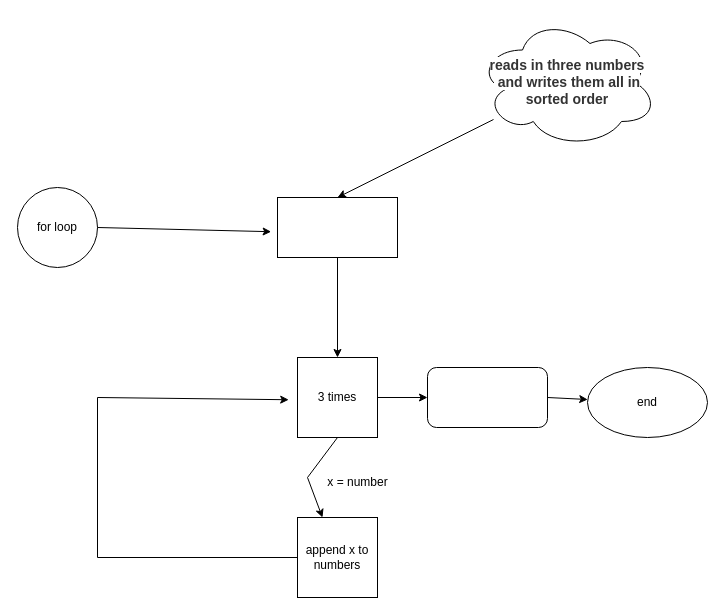
This 725x615 diagram has some shape labels left out. Here are the shapes that lost their labels. From the top down, the centre of each, then its label:
pixel 337 227: start
pixel 487 397: read
